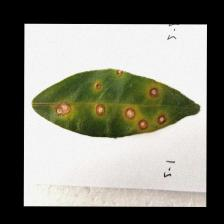canker: (48, 80, 168, 132)
